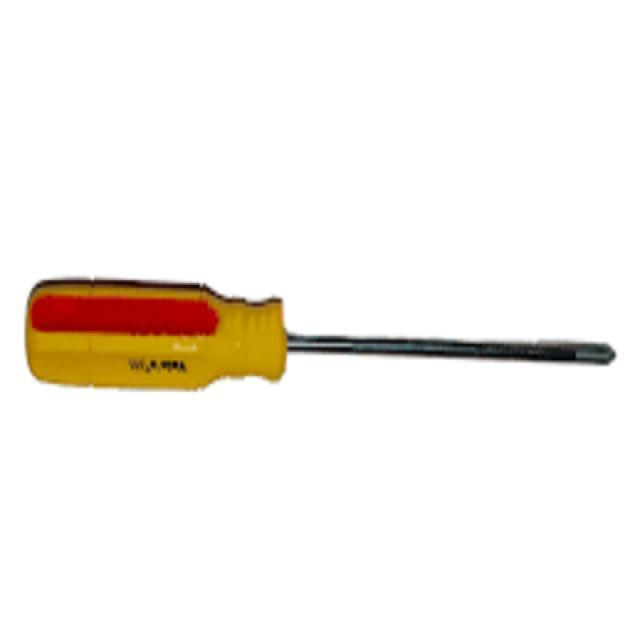screwdriver: (22, 272, 622, 391)
